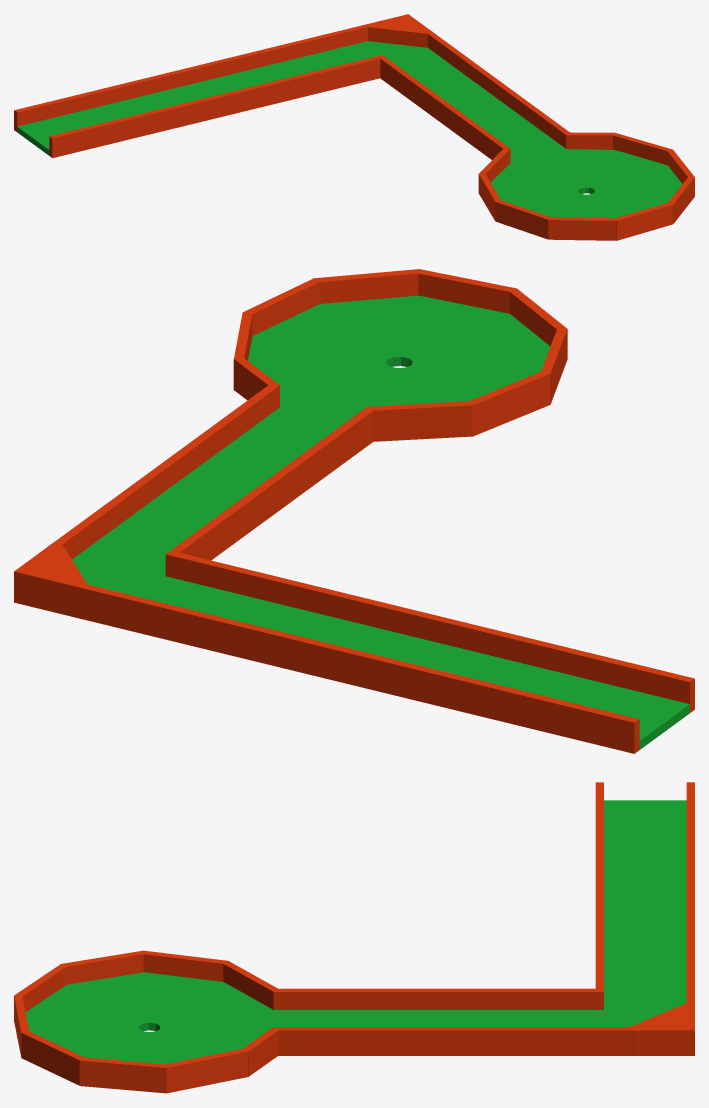
The model's file is course2.fbx.
The picture shows the model from 3 angles, top to bottom: view 1: azimuth 30°, elevation 25°; view 2: azimuth 150°, elevation 25°; view 3: azimuth 270°, elevation 25°; orthographic projection. The views are drawn at different scales.
Parts seen in each view (by area): view 1: Cube, Wall2, Wall1, Wall3, Wall4, Wall3.005, Wall3.006, Wall3.004, BumperBox, Wall3.009, Wall3.010, Wall3.007 (+4 smaller); view 2: Cube, Wall1, Wall2, Wall3, Wall4, Wall3.002, Wall3.003, Wall3.007, Wall3.006, Wall3.008, Wall3.005, Wall3.010 (+2 smaller); view 3: Cube, Wall4, Wall3, Wall3.008, Wall3.009, Wall1, Wall2, Wall3.007, Wall3.003, Wall3.004, Wall3.002, Wall3.005 (+3 smaller).
Part boxes in pixels (box(x1,y1,x2,y2)): Cube: box(17, 41, 682, 218); Wall2: box(49, 55, 385, 158); Wall1: box(14, 15, 405, 131); Wall3: box(380, 57, 510, 162); Wall4: box(403, 14, 569, 148); Wall3.005: box(548, 217, 616, 240); Wall3.006: box(614, 202, 672, 240); Wall3.004: box(495, 200, 551, 239); BumperBox: box(366, 24, 428, 47); Wall3.009: box(612, 133, 672, 165); Wall3.010: box(566, 132, 614, 149); Wall3.007: box(668, 177, 694, 223); Cube: box(72, 295, 689, 749); Wall1: box(22, 570, 639, 753); Wall2: box(165, 550, 694, 712); Wall3: box(171, 406, 375, 560); Wall4: box(14, 383, 279, 604); Wall3.002: box(368, 401, 472, 441); Wall3.003: box(466, 371, 550, 436); Wall3.007: box(315, 269, 420, 303); Wall3.006: box(416, 269, 516, 313); Wall3.008: box(243, 278, 319, 336); Wall3.005: box(509, 289, 567, 359); Wall3.010: box(233, 358, 279, 400); Cube: box(25, 800, 686, 1064); Wall4: box(273, 1027, 694, 1055); Wall3: box(273, 988, 595, 1009); Wall3.008: box(79, 1057, 167, 1093); Wall3.009: box(163, 1048, 247, 1093); Wall1: box(686, 782, 694, 1026); Wall2: box(595, 782, 603, 1009); Wall3.007: box(21, 1031, 85, 1085); Wall3.003: box(141, 950, 227, 981); Wall3.004: box(62, 950, 144, 984); Wall3.002: box(223, 961, 279, 1009); Wall3.005: box(15, 964, 67, 1011).
Size of the model in its own units: 818 by 34 by 824.
